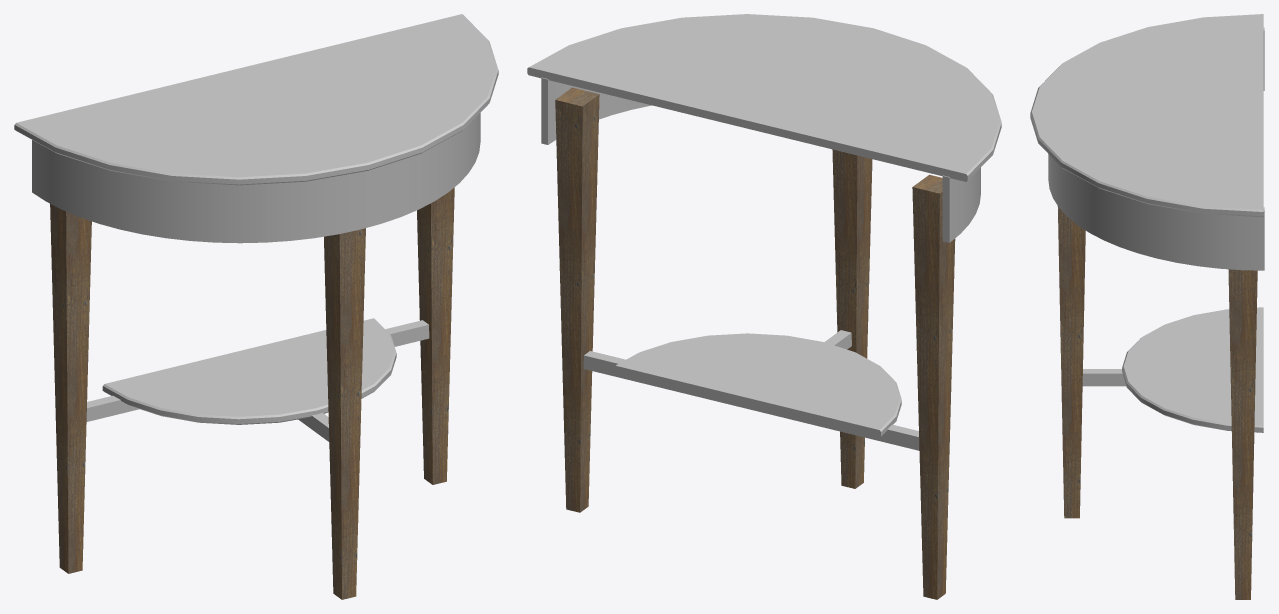
The model's file is EndTable_HR_01.DAE.
3 views of the same model, side by side, from view 1: azimuth 30°, elevation 25°; view 2: azimuth 150°, elevation 25°; view 3: azimuth 270°, elevation 25° (orthographic). The views are drawn at different scales.
Visible parts, largest first — view 1: EndTableHROne300; view 2: EndTableHROne300; view 3: EndTableHROne300.
Boxes of the visible parts, bbox=[...] form: EndTableHROne300: bbox=[14, 14, 498, 599]; EndTableHROne300: bbox=[527, 14, 1001, 599]; EndTableHROne300: bbox=[1030, 14, 1264, 599].
Size of what is drawn, in the model's own units: 43.64 by 21.91 by 41.63.
